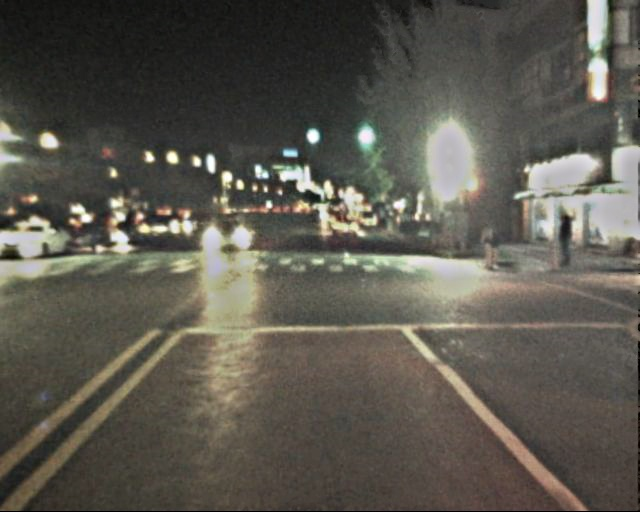person: (553, 212, 578, 272), (478, 218, 501, 270)
